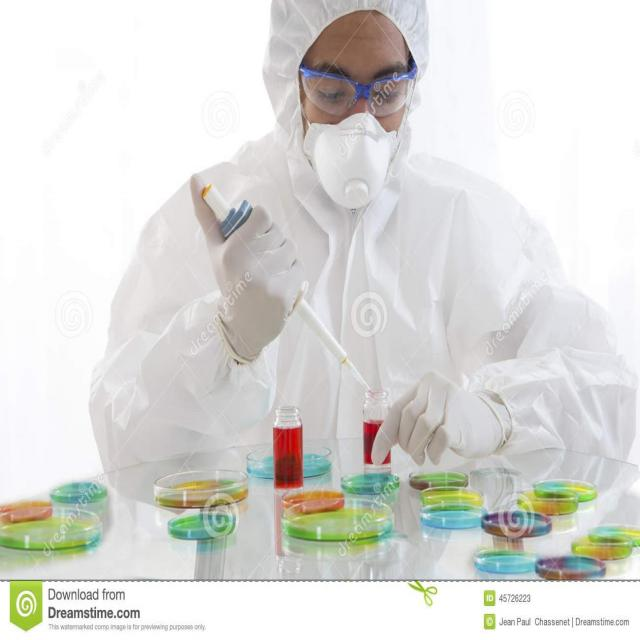Gloves: (189, 172, 304, 362), (372, 371, 509, 466)
Goggles: (298, 63, 421, 120)
